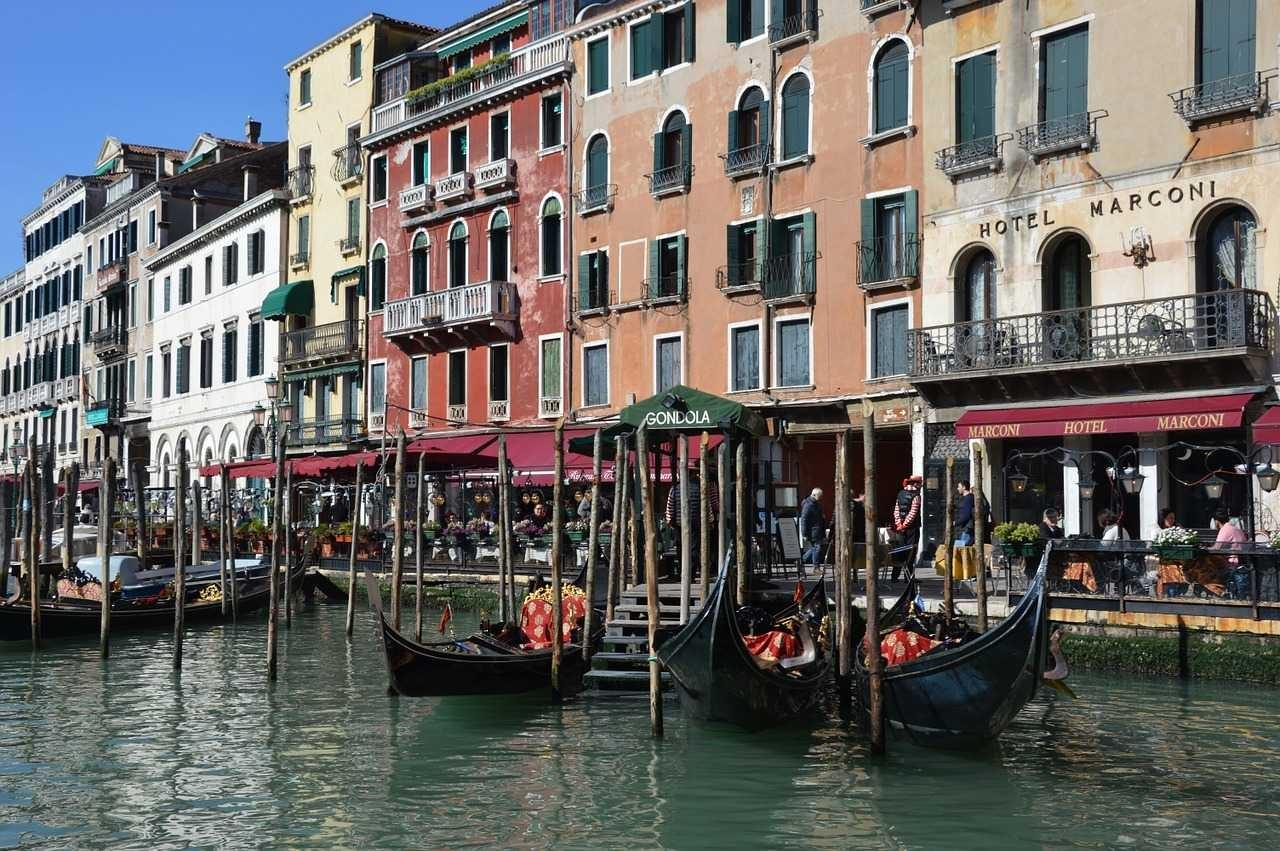kayak: (655, 450, 833, 734), (861, 536, 1058, 754), (371, 606, 587, 700), (587, 562, 712, 691), (17, 559, 179, 636), (129, 562, 276, 619), (0, 597, 171, 641)
